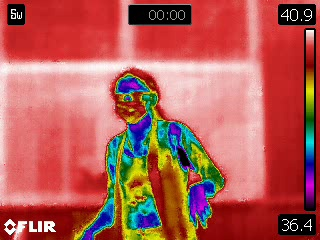human: (71, 67, 230, 240)
